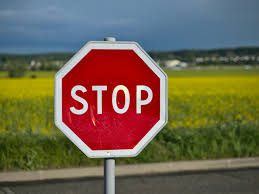stop sign: (53, 40, 165, 156)
